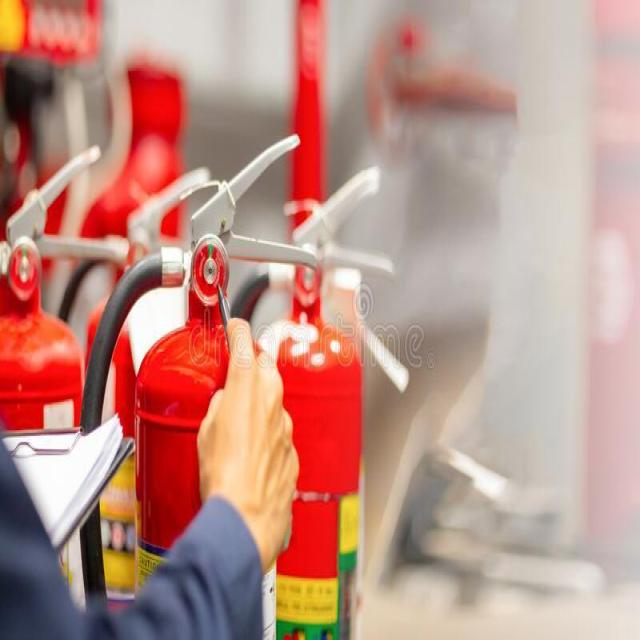fire_extinguisher: (74, 126, 326, 638), (217, 162, 401, 638), (0, 134, 134, 638)
